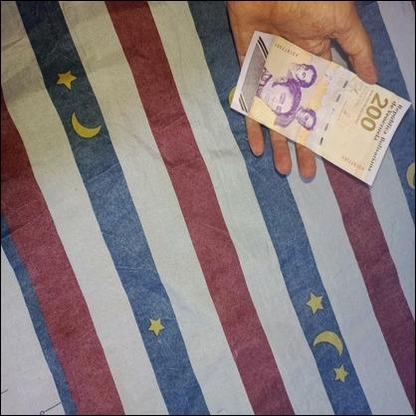two_hundred-front-vef: (229, 29, 412, 187)
